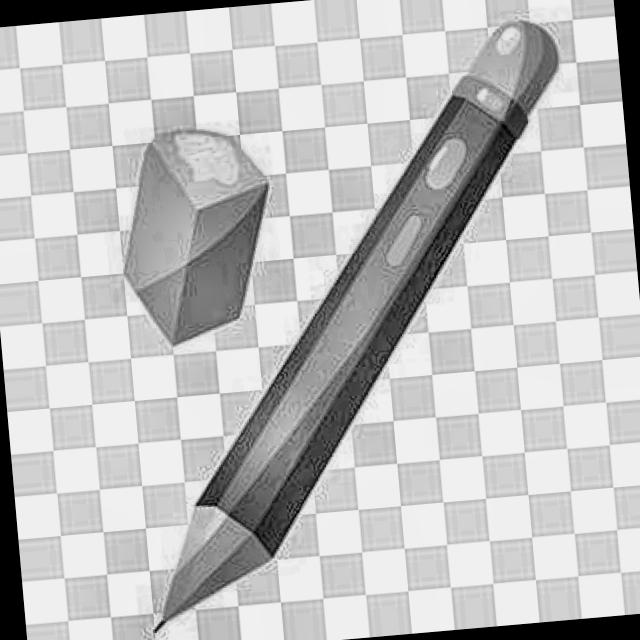eraser: (109, 128, 278, 372)
